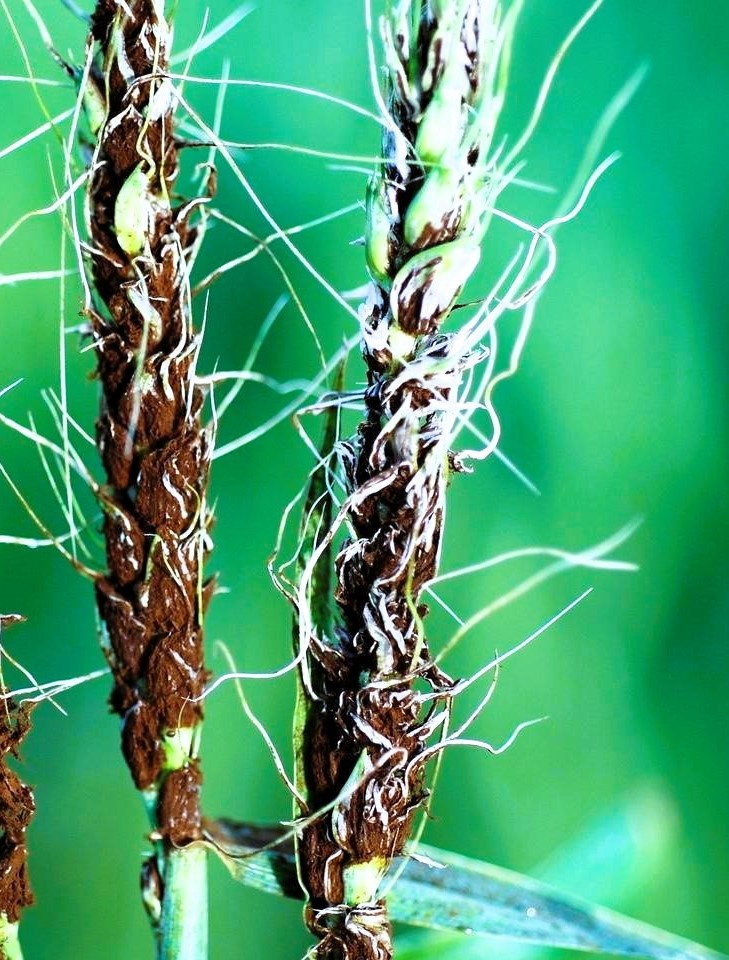Wheat Loose Smut: (265, 325, 505, 774)
